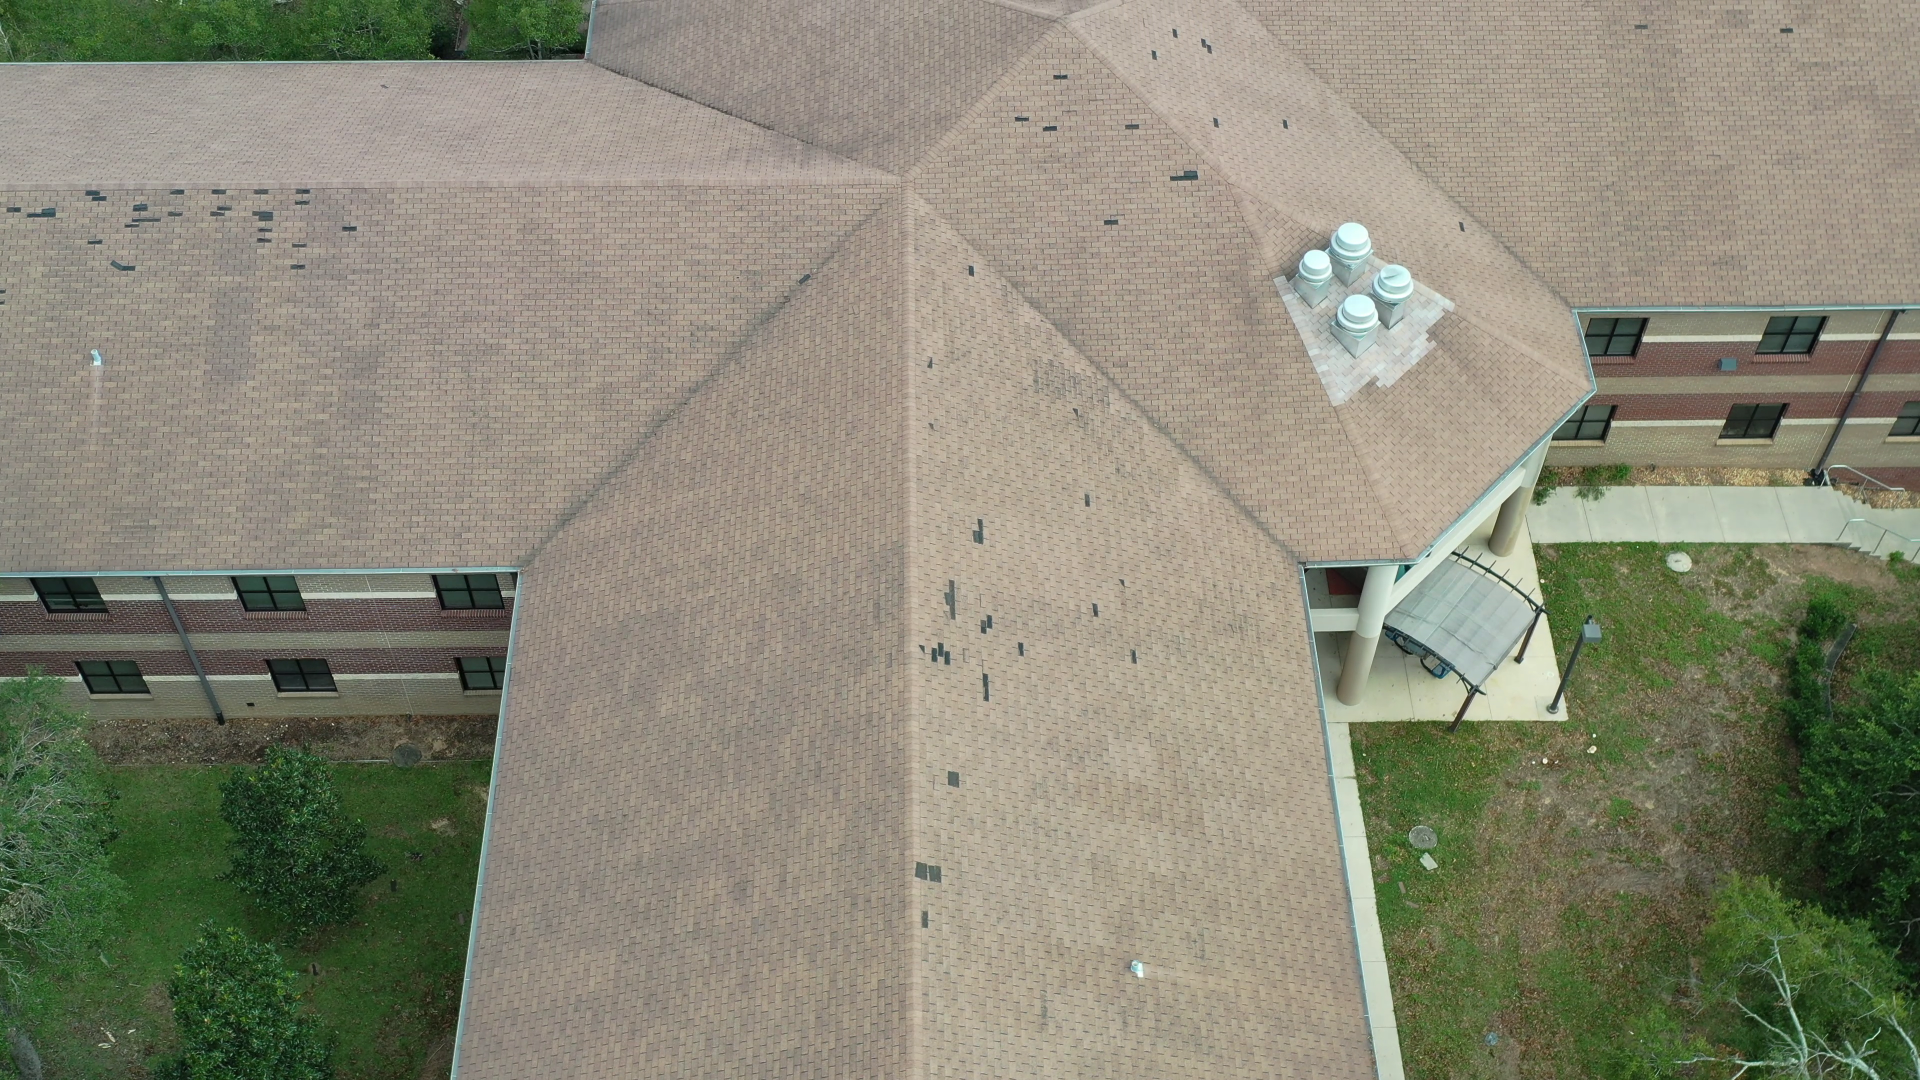Light: (7, 187, 357, 272), (916, 578, 1025, 703), (1092, 578, 1138, 665), (914, 860, 942, 928), (1171, 28, 1215, 55), (1013, 116, 1058, 133), (1167, 170, 1200, 183), (972, 518, 985, 546), (945, 770, 960, 789), (967, 262, 976, 280), (1633, 22, 1650, 32), (1779, 26, 1795, 36), (1083, 492, 1091, 509), (1052, 73, 1069, 80), (1211, 115, 1220, 129), (1124, 123, 1139, 131), (1102, 218, 1117, 224), (1151, 47, 1158, 61), (1282, 117, 1288, 131)
